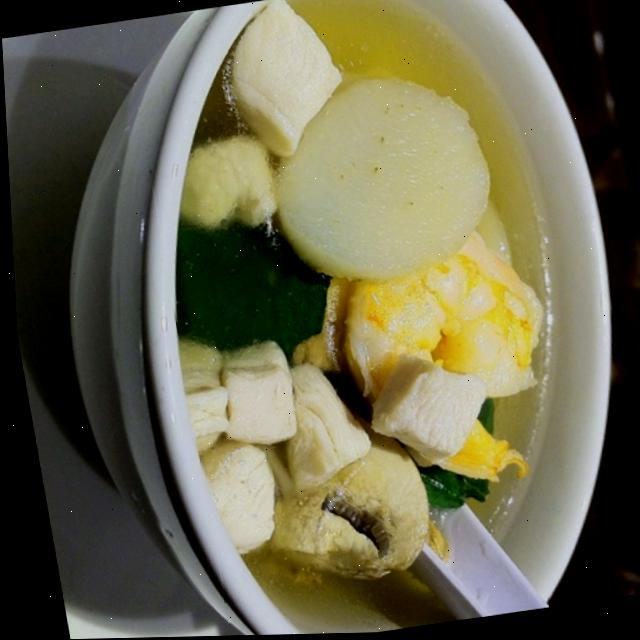汤锅炖物: (36, 0, 640, 639)
